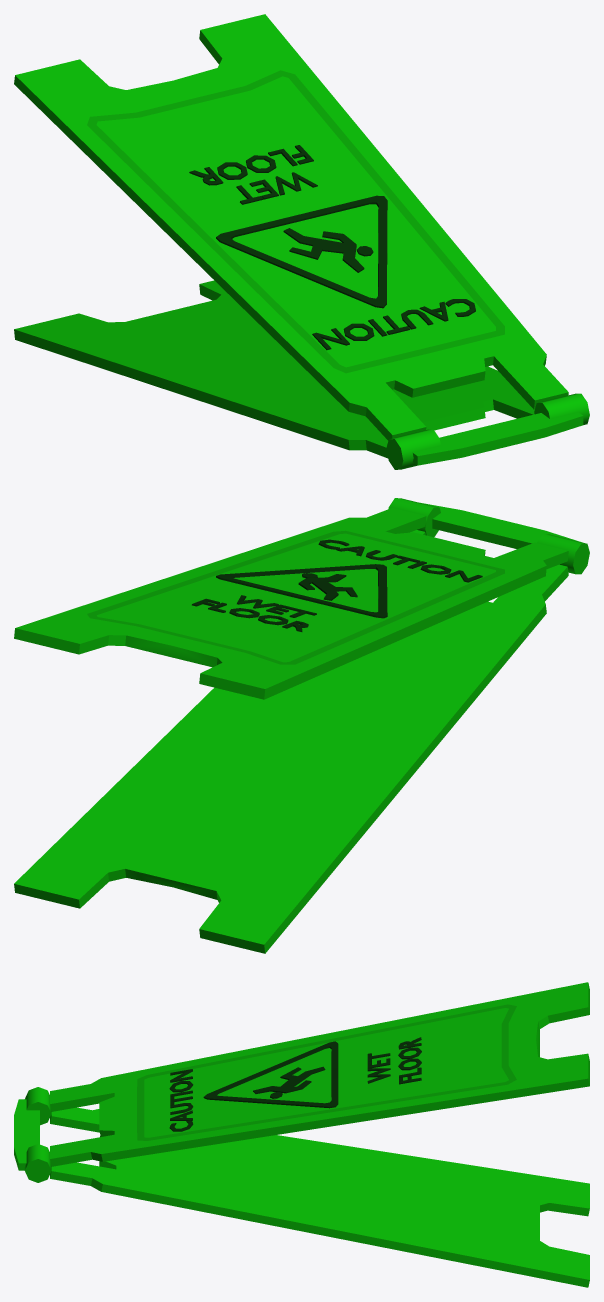
File: WetFloorSign.fbx
3 views of the same model, one above another, from view 1: azimuth 30°, elevation 25°; view 2: azimuth 150°, elevation 25°; view 3: azimuth 270°, elevation 25° (orthographic). The views are drawn at different scales.
Visible parts, largest first — view 1: Circle.001, Circle.148; view 2: Circle.148, Circle.001; view 3: Circle.001, Circle.148.
Part boxes in pixels (x1,y1,x2,y2): Circle.001: [14, 14, 568, 440]; Circle.148: [14, 280, 589, 469]; Circle.148: [14, 498, 589, 953]; Circle.001: [14, 507, 568, 699]; Circle.001: [50, 982, 589, 1166]; Circle.148: [14, 1087, 589, 1287].
Size of the model in its own units: 0.3131 by 0.3166 by 0.7899.
